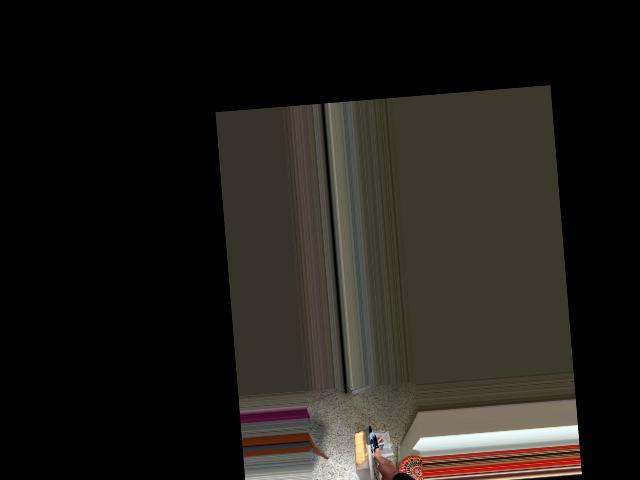cheese: (347, 423, 418, 480)
